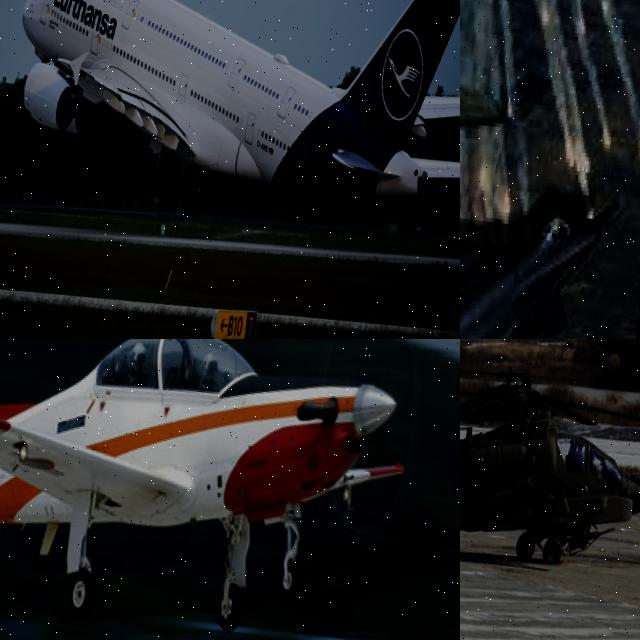A380: (0, 0, 460, 262)
Apache: (460, 339, 640, 581)
F22: (460, 152, 623, 339), (460, 0, 531, 272)
KT-1: (0, 339, 417, 640)
